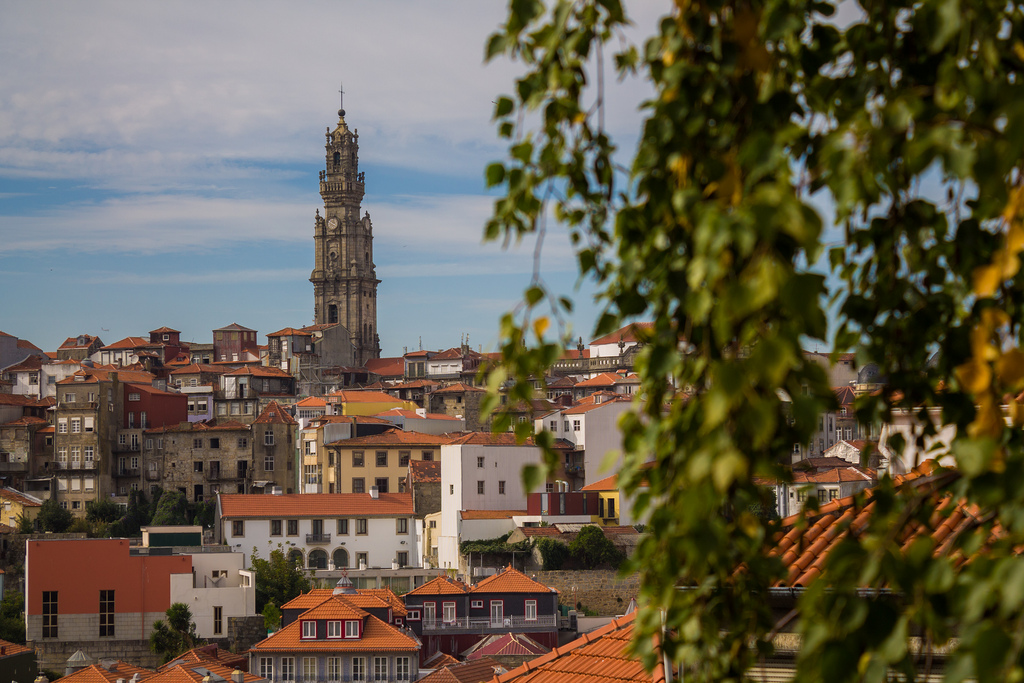clerigos: (303, 83, 383, 363)
